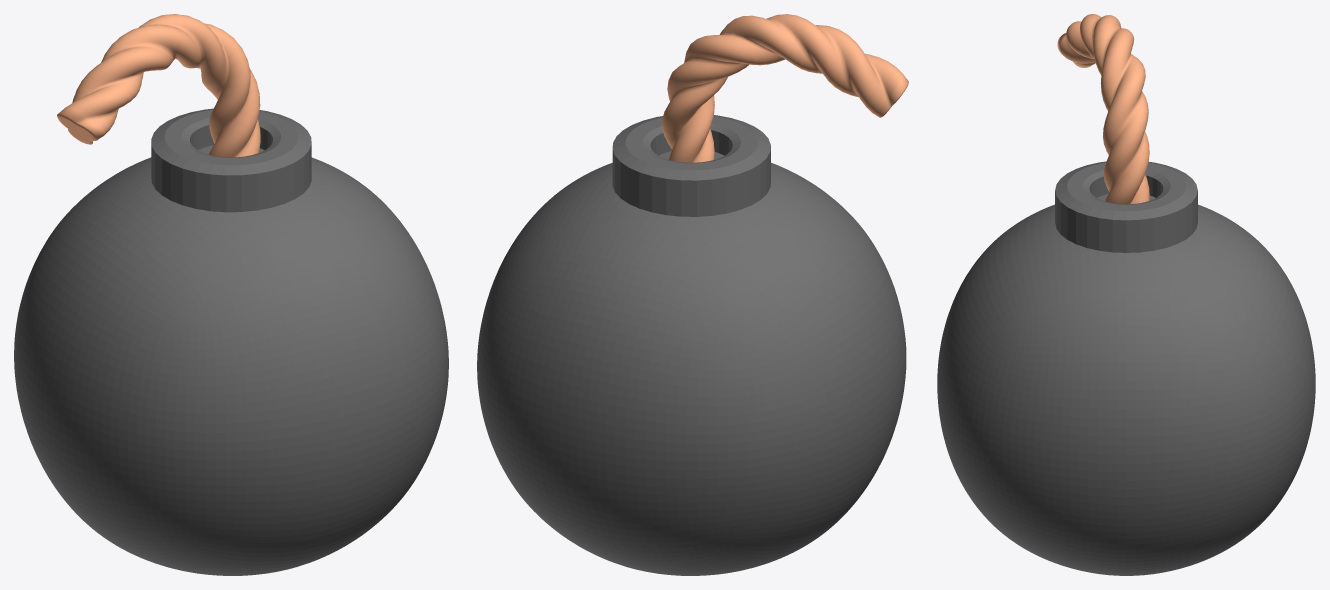
Rendered from granade1.fbx.
3 renders of one model, left to right at view 1: azimuth 30°, elevation 25°; view 2: azimuth 150°, elevation 25°; view 3: azimuth 270°, elevation 25°, orthographic. The views are drawn at different scales.
Parts seen in each view (by area): view 1: Cylinder; view 2: Cylinder; view 3: Cylinder.
Boxes of the visible parts, box(x1,y1,x2,y2) form: Cylinder: box(14, 14, 448, 575); Cylinder: box(477, 14, 908, 575); Cylinder: box(937, 14, 1315, 575).
Bounding box in the file's own units: 172 × 242 × 168.
